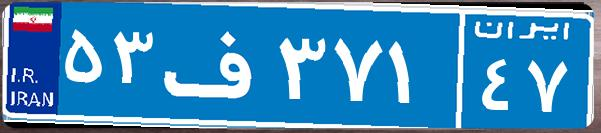1: (385, 28, 445, 110)
3: (273, 28, 330, 110), (110, 28, 158, 105)
4: (475, 38, 525, 113)
5: (57, 26, 110, 107)
7: (330, 28, 385, 110), (525, 38, 570, 115)
ف: (158, 15, 273, 115)
